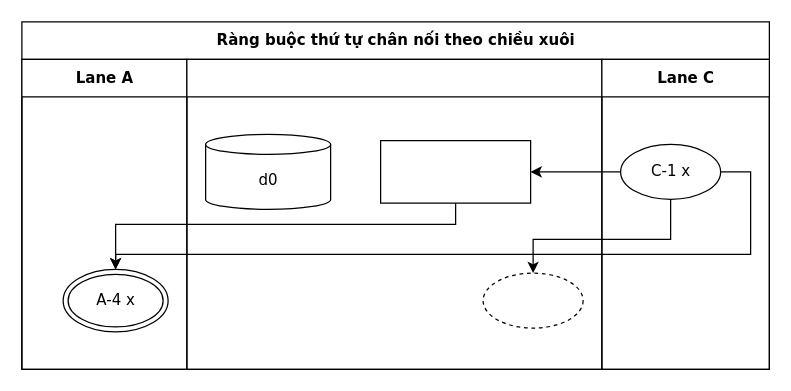
Some shapes in this 791 by 391 pixel diagram are drawn without their labels. The box of each missing label's shape, as (x1, y1, x2, y2) in pixels:
B-2 x: (379, 139, 531, 203)
B-3 x: (482, 272, 583, 328)
Lane B: (186, 58, 602, 369)
